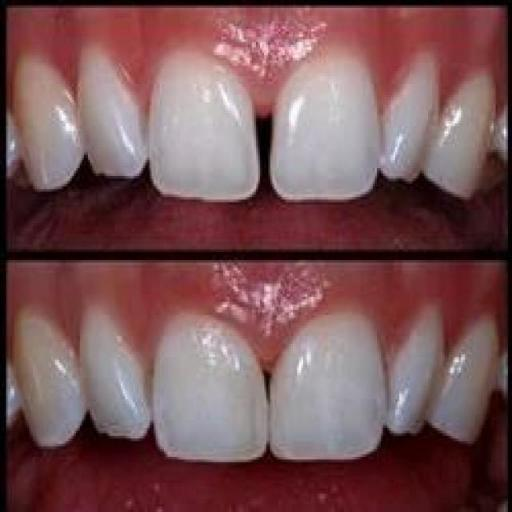spaced: (246, 108, 282, 194)
